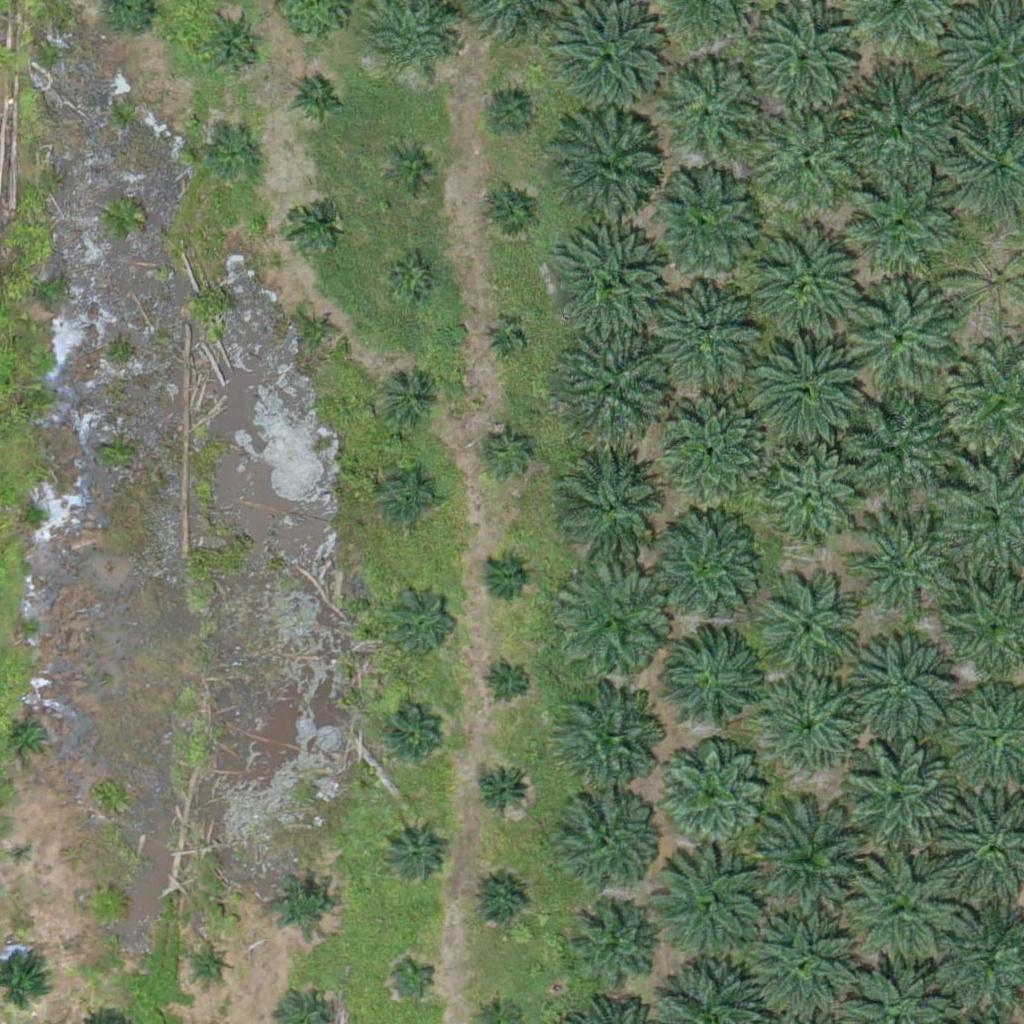Kelapa_Sawit: (751, 799, 876, 925), (746, 907, 859, 1021), (656, 852, 769, 966), (654, 737, 767, 851), (558, 569, 671, 683), (555, 228, 668, 341), (556, 330, 669, 443), (556, 445, 669, 558), (752, 100, 865, 213), (839, 393, 952, 506), (847, 285, 960, 398), (843, 168, 956, 281), (837, 70, 950, 183), (648, 514, 761, 627), (551, 688, 663, 802), (848, 851, 960, 964), (553, 5, 665, 118), (553, 117, 665, 230), (650, 166, 762, 279), (657, 51, 769, 164), (755, 224, 867, 337), (751, 331, 863, 444), (847, 509, 959, 622), (843, 741, 955, 854), (666, 397, 766, 498), (662, 283, 762, 384), (763, 451, 863, 552), (852, 634, 952, 735), (760, 583, 860, 684), (557, 786, 657, 887), (761, 676, 861, 776), (665, 630, 765, 730), (567, 903, 655, 991), (385, 582, 460, 657), (202, 15, 265, 78), (272, 870, 335, 933), (381, 709, 444, 772), (471, 759, 534, 822), (381, 369, 443, 432), (380, 466, 442, 529), (382, 820, 444, 883), (468, 871, 530, 934), (290, 67, 352, 130), (483, 426, 533, 477), (389, 950, 439, 1001), (479, 550, 529, 601), (209, 134, 259, 184), (285, 198, 335, 248), (387, 254, 437, 304), (388, 145, 438, 195), (483, 658, 533, 708), (485, 86, 535, 136), (486, 189, 536, 239), (5, 712, 55, 762), (192, 946, 230, 984), (302, 312, 340, 350), (485, 321, 523, 359), (89, 886, 127, 924), (9, 840, 34, 865)
